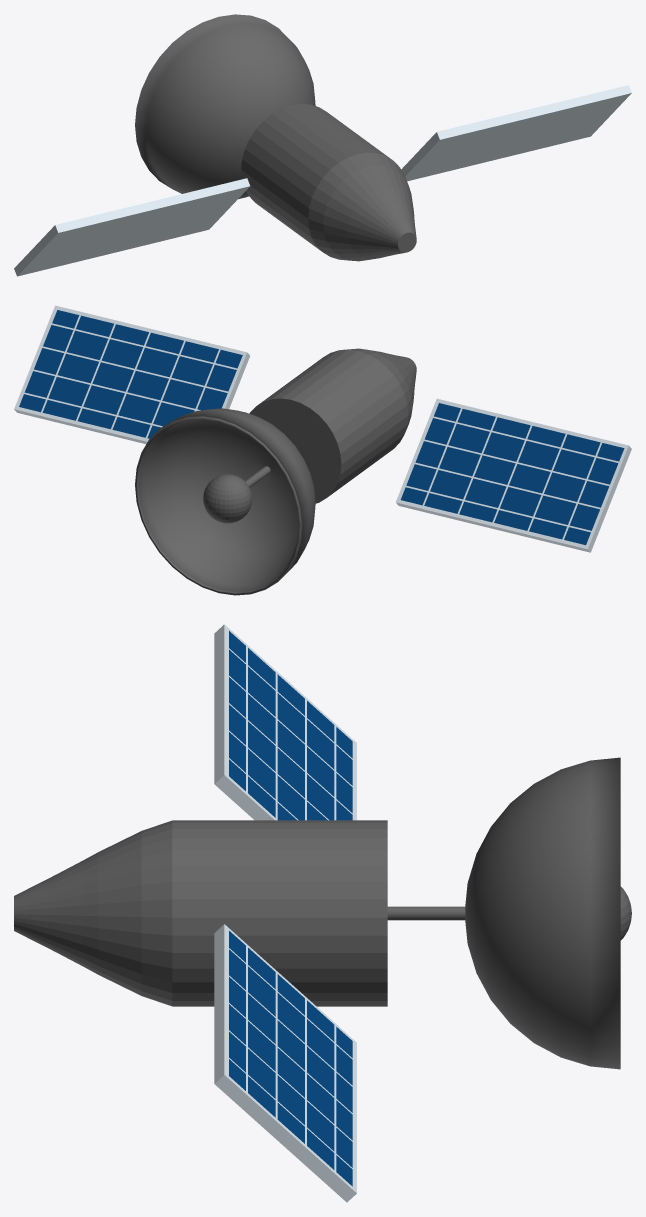
Rendered from Satelite.fbx.
The picture shows the model from 3 angles, top to bottom: view 1: azimuth 30°, elevation 25°; view 2: azimuth 150°, elevation 25°; view 3: azimuth 270°, elevation 25°; orthographic projection. The views are drawn at different scales.
Visible parts, largest first — view 1: Satelite; view 2: Satelite; view 3: Satelite.
Boxes of the visible parts, x1,y1,x2,y2 form: Satelite: (14,14,631,276); Satelite: (14,305,631,595); Satelite: (14,624,631,1202).
Size of the model in its own units: 1144 by 335 by 663.
Materials: 2 (2 with a texture image).
